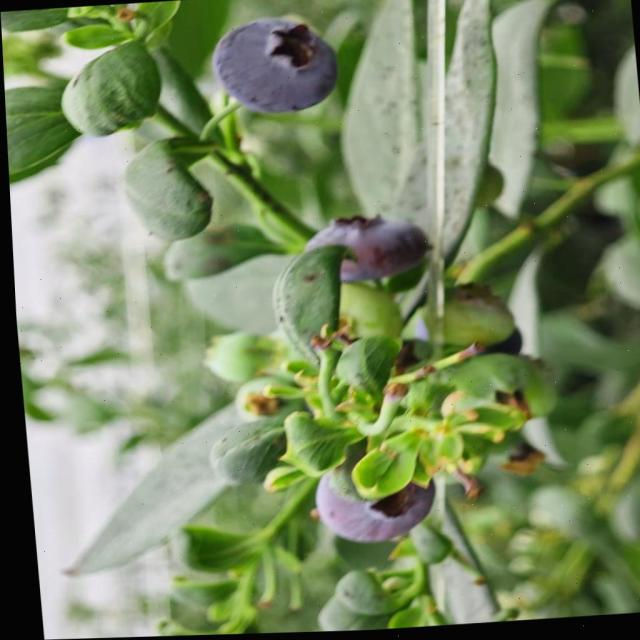RipeBlueBerry: (208, 15, 342, 120), (306, 455, 435, 550), (299, 212, 430, 288)
